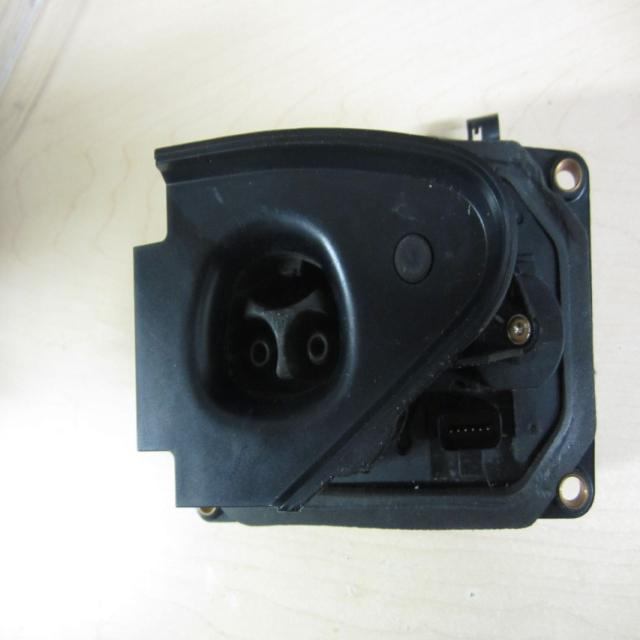Tesla Model-S-: (171, 202, 368, 446)
